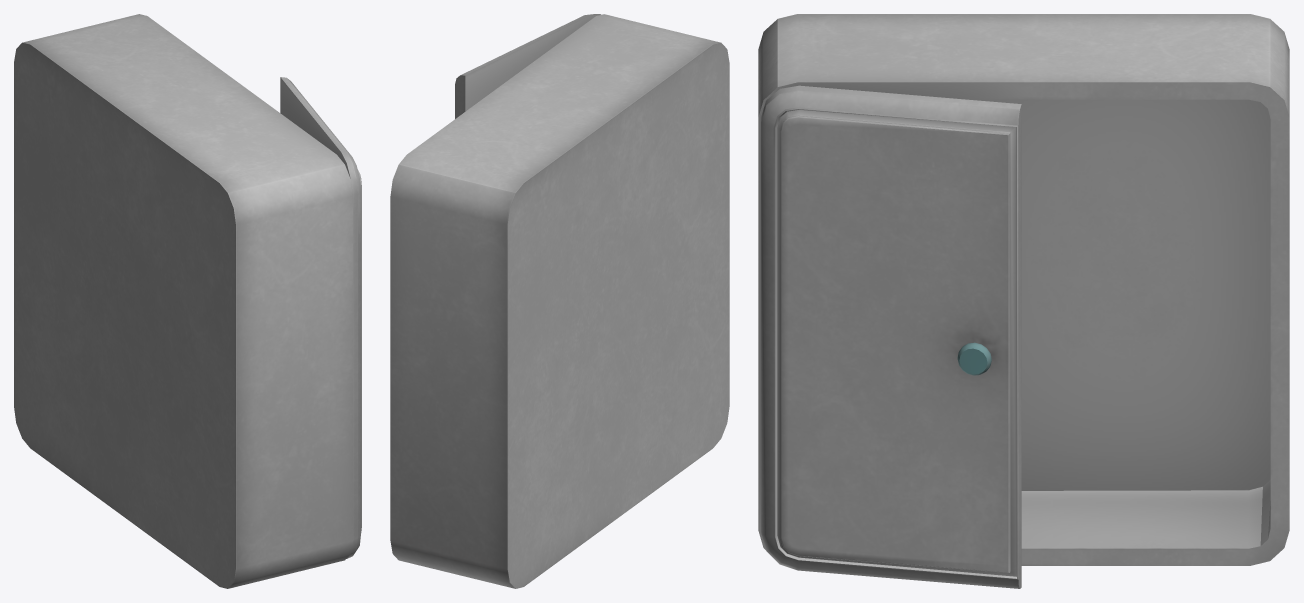
Rendered from Bathroom_UstDolap.fbx.
3 renders of one model, left to right at view 1: azimuth 30°, elevation 25°; view 2: azimuth 150°, elevation 25°; view 3: azimuth 270°, elevation 25°, orthographic. The views are drawn at different scales.
Parts seen in each view (by area): view 1: Cube.003, Cube.005; view 2: Cube.003, Cube.005; view 3: Cube.003, Cube.005, Cylinder.009.
Boxes of the visible parts, x1,y1,x2,y2 form: Cube.003: [14, 14, 352, 588]; Cube.005: [280, 77, 361, 558]; Cube.003: [390, 14, 729, 588]; Cube.005: [455, 14, 600, 118]; Cube.003: [758, 14, 1289, 565]; Cube.005: [761, 85, 1021, 588]; Cylinder.009: [957, 342, 991, 375].
Bounding box in the file's own units: 42.67 × 89.78 × 89.43.
Materials: 1 (1 with a texture image).
